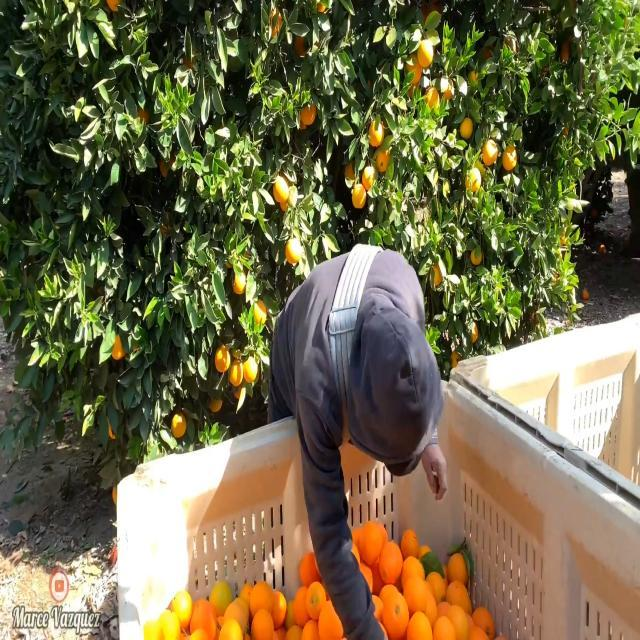Jeruk Sudah Matang: (109, 332, 128, 362), (424, 83, 441, 116), (502, 142, 518, 177), (417, 41, 434, 72), (458, 115, 474, 146), (375, 145, 393, 172), (298, 100, 316, 126), (362, 164, 380, 190), (229, 356, 243, 389), (272, 177, 290, 202), (242, 352, 258, 380), (482, 138, 497, 165), (214, 346, 228, 374), (172, 412, 186, 440), (351, 182, 366, 208), (368, 121, 383, 145), (232, 268, 244, 296), (470, 246, 482, 270)
